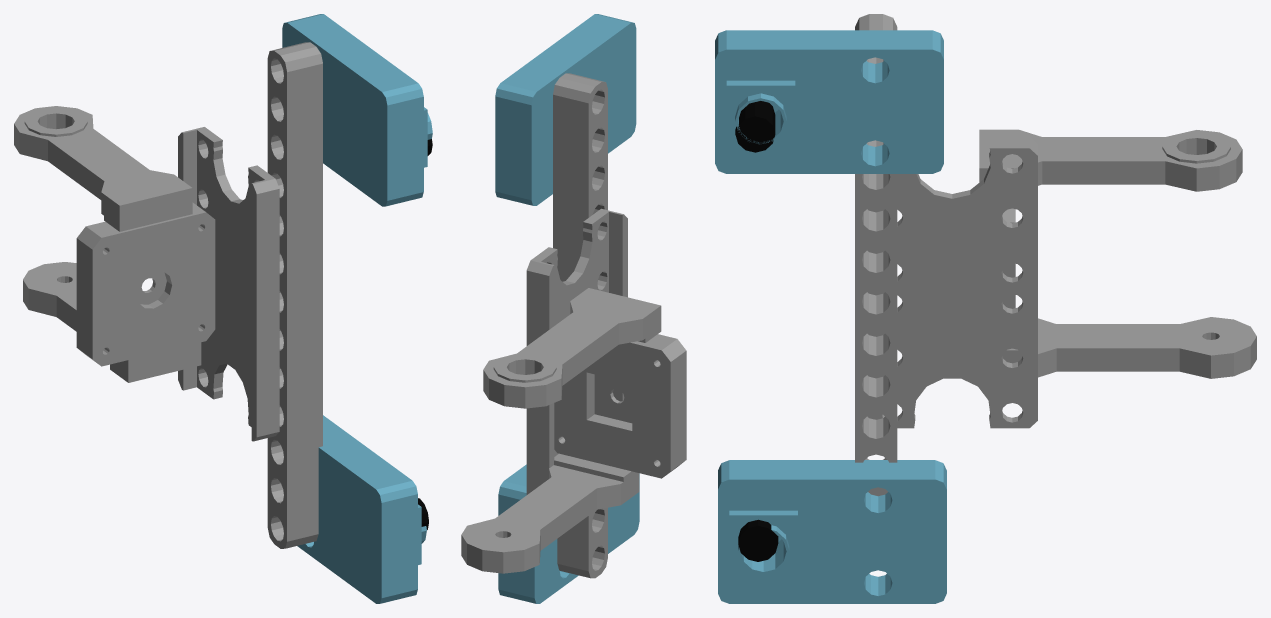
The model's file is head-neck-p.glb.
3 views of the same model, side by side, from view 1: azimuth 30°, elevation 25°; view 2: azimuth 150°, elevation 25°; view 3: azimuth 270°, elevation 25° (orthographic). The views are drawn at different scales.
Bounding box in the file's own units: 0.0499 × 0.1073 × 0.0947.
